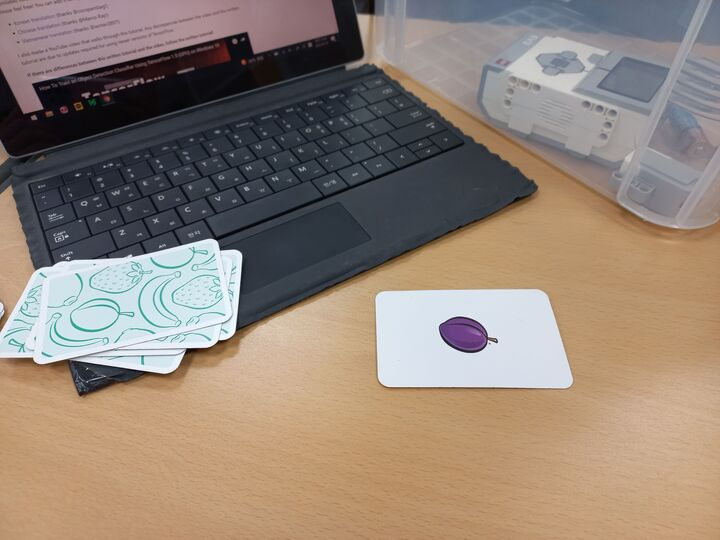plum1: (373, 287, 576, 391)
